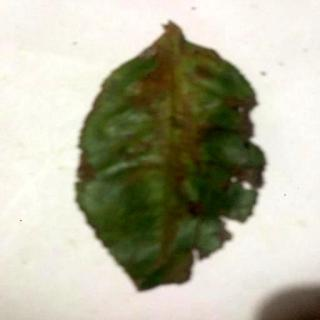Red Leaf Spot: (76, 22, 266, 292)
